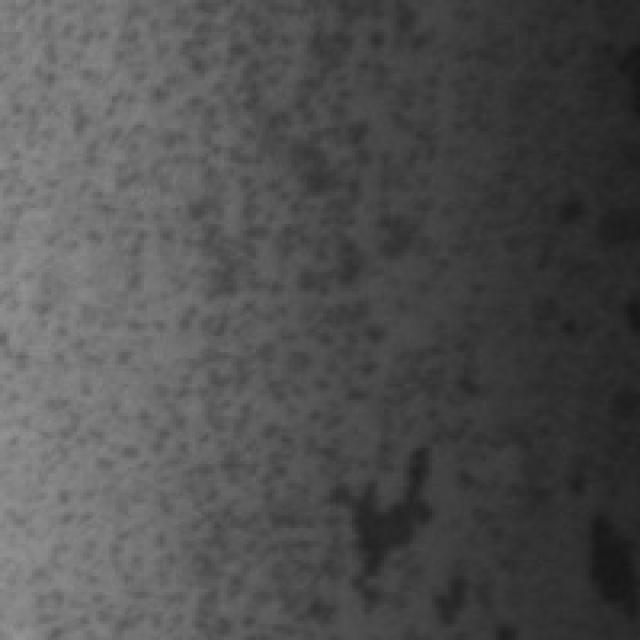pitted_surface: (13, 6, 547, 637)
